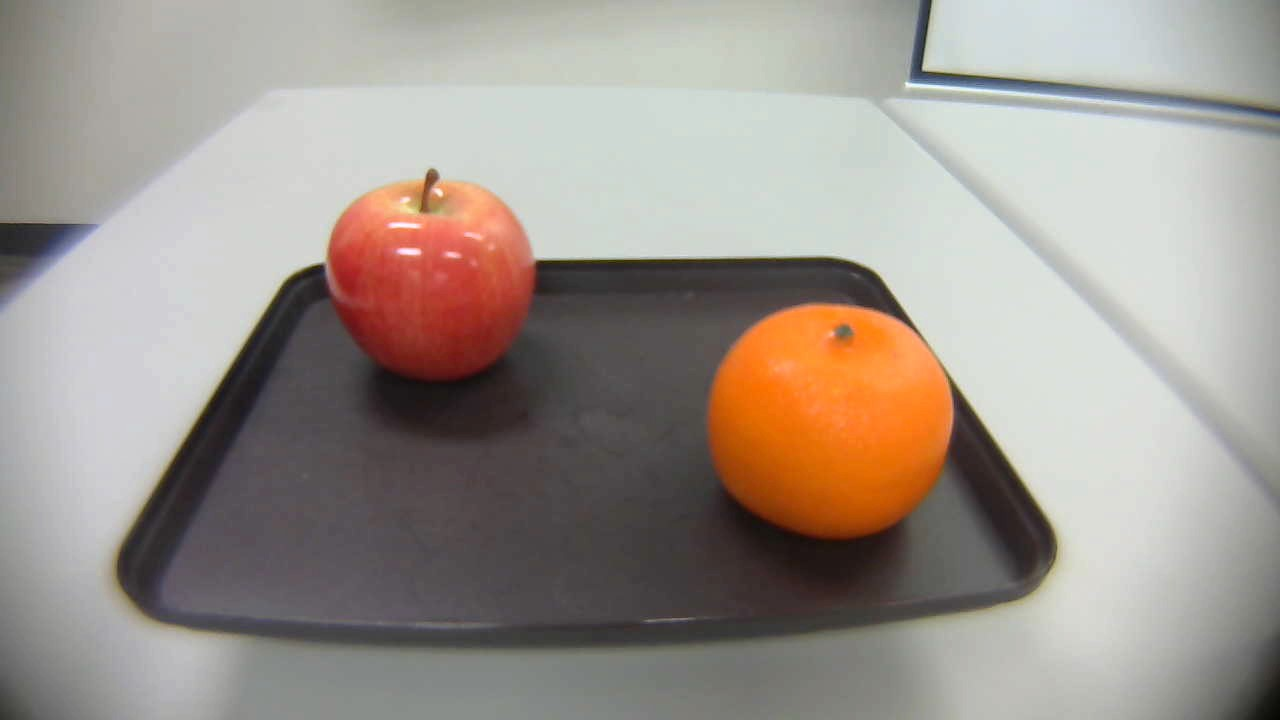orange: (701, 295, 967, 543)
red apple: (299, 166, 547, 390)
